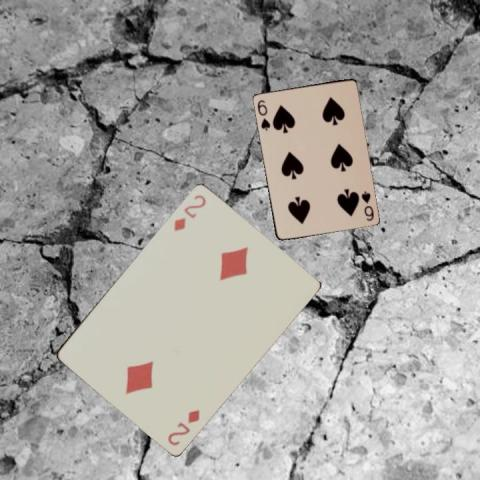2d: (171, 190, 208, 232), (164, 406, 201, 447)
6s: (254, 97, 271, 132), (358, 187, 375, 222)
